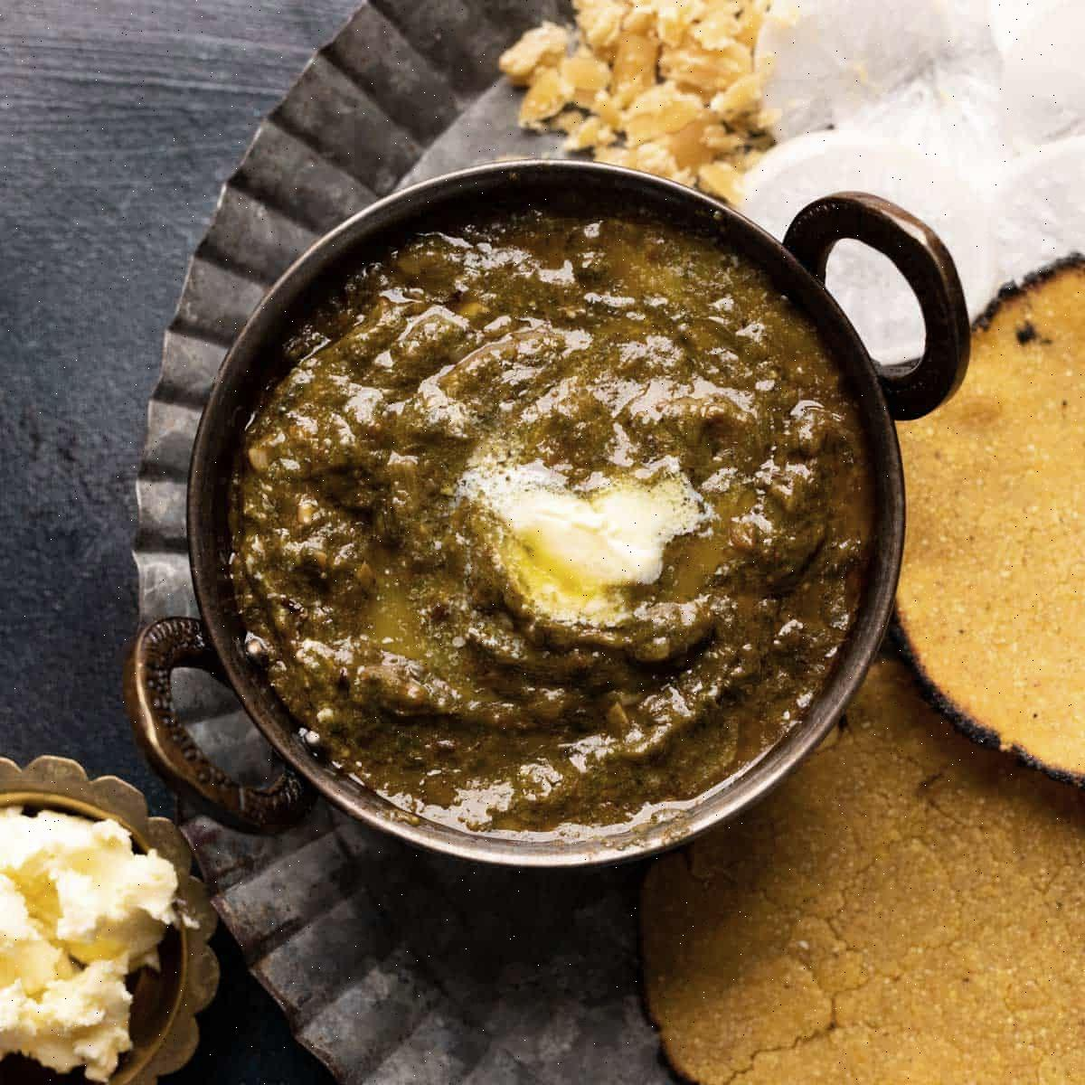saag: (217, 204, 868, 855)
